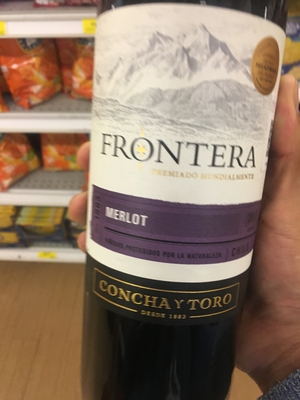frontera merlot: (81, 1, 283, 398)
